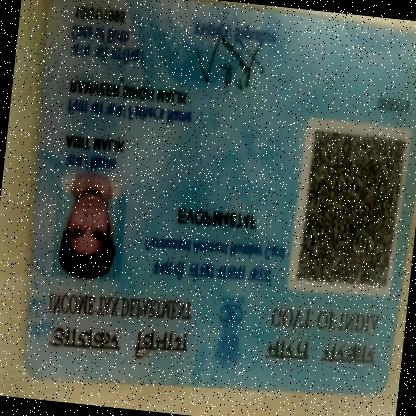pan_card: (5, 0, 415, 415)
